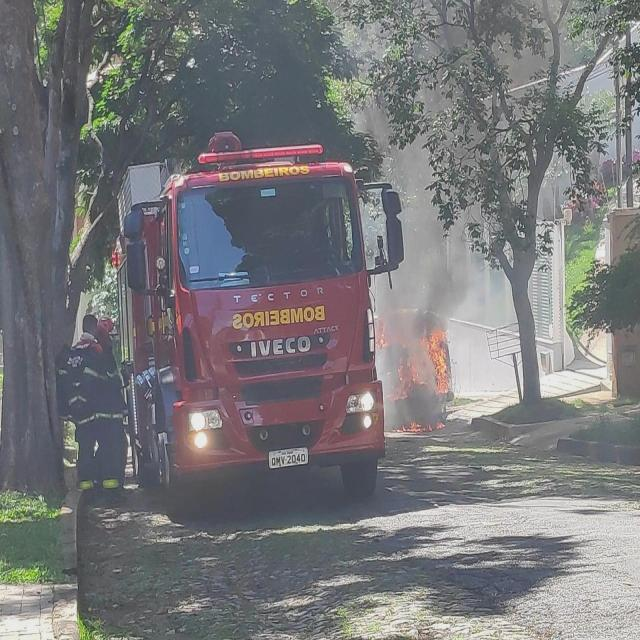Fire: (375, 316, 451, 402), (392, 418, 448, 433)
Smoke: (356, 28, 554, 434)
